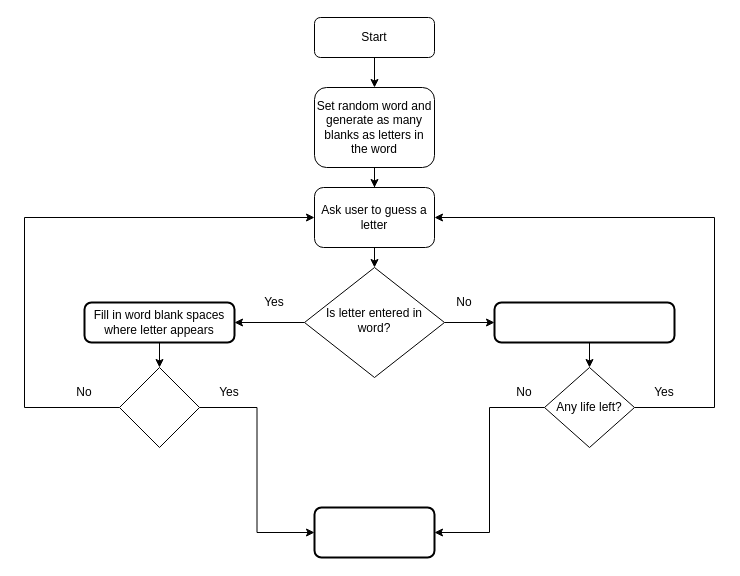
This 740x576 diagram has some shape labels left out. The shapes that lost their labels are listed below. From the top down, each one's centre as x and y in pixels, then its label:
the point at 584,322: Lose a life
the point at 159,407: All blanks filled?
the point at 374,532: End
